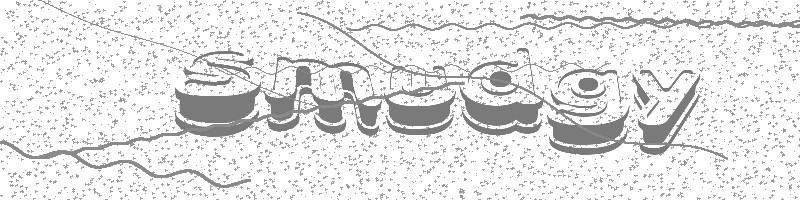d: (457, 43, 545, 141)
g: (547, 66, 631, 153)
m: (265, 49, 383, 140)
s: (173, 46, 264, 135)
u: (384, 60, 457, 137)
y: (630, 67, 700, 154)
